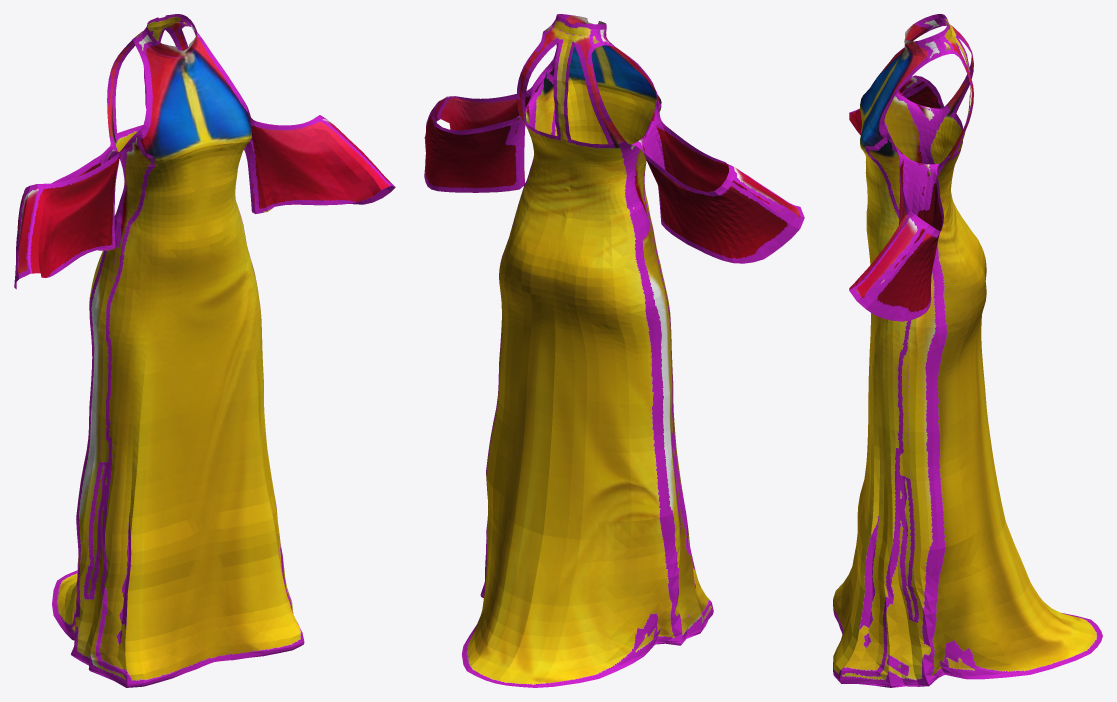
3 renders of one model, left to right at view 1: azimuth 30°, elevation 25°; view 2: azimuth 150°, elevation 25°; view 3: azimuth 270°, elevation 25°, orthographic.
Bounding box in the file's own units: 0.59 × 0.9168 × 0.3623.
1 material, 1 textured.
